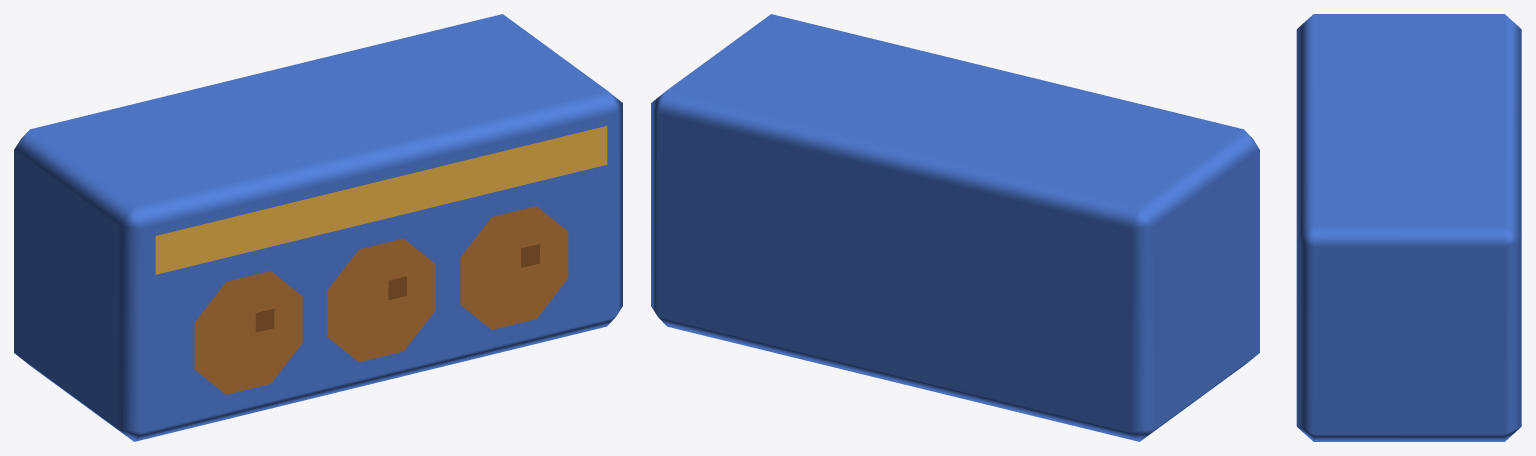
The model's file is CM_Product_CookieBox.fbx.
3 views of the same model, side by side, from view 1: azimuth 30°, elevation 25°; view 2: azimuth 150°, elevation 25°; view 3: azimuth 270°, elevation 25° (orthographic). The views are drawn at different scales.
Visible parts, largest first — view 1: CookieBox; view 2: CookieBox; view 3: CookieBox.
Boxes of the visible parts, x1=… form: CookieBox: x1=14, y1=14, x2=622, y2=441; CookieBox: x1=651, y1=14, x2=1259, y2=441; CookieBox: x1=1296, y1=14, x2=1521, y2=441.
Bounding box in the file's own units: 1.9 × 0.83 × 0.85.
1 material, 1 textured.
